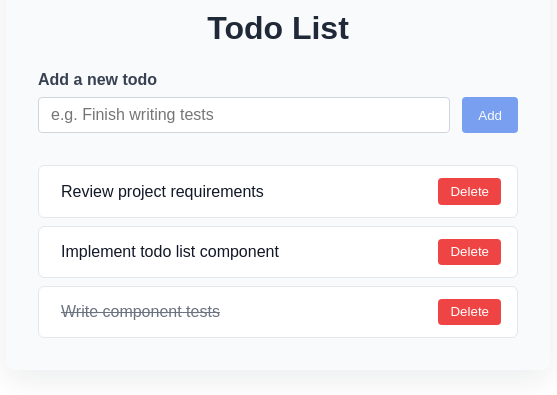
allows users to delete a todo item
expect the button "Review project requirements" is shown: met, box [55,182,426,202]
Step 1. Click the button with aria-label "delete review project requirements" → (470, 192), box [438,178,501,205]
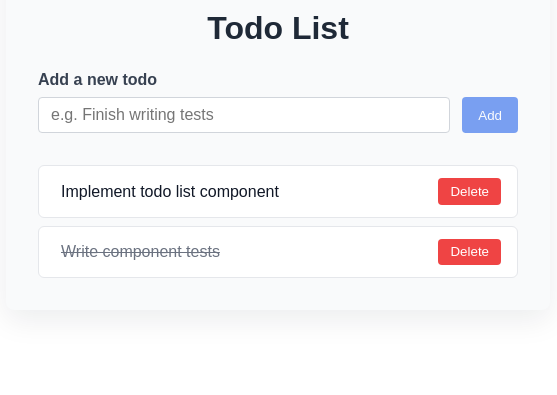
expect the button "Review project requirements" is gone: met
